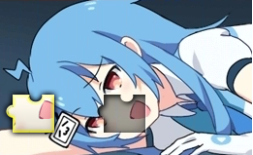gap: (98, 95, 145, 133)
